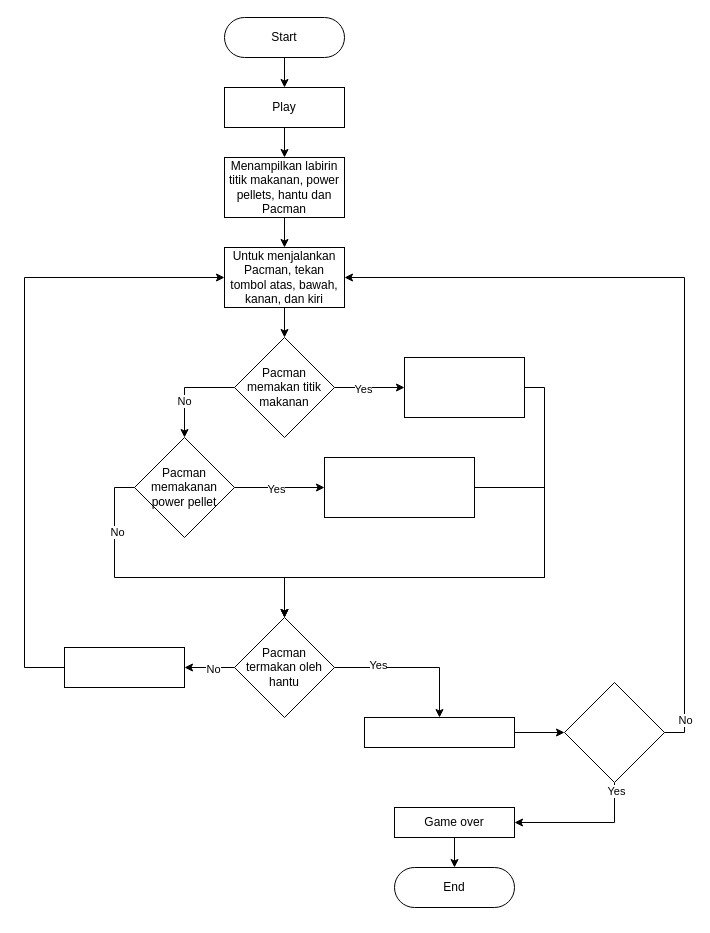
The diagram is 710 pixels wide and 933 high, and some of its shapes have lost their labels. The shapes that lost their labels are listed below. From the top down, each one's box as (x1, y1, x2, y2) in pixels, then its label:
(404, 356, 524, 418): Score bertambah 10 poin tiap titik makanan
(324, 456, 474, 518): Pacman bisa memakan hantu dan mendapat skor 200 poin tiap hantu yang di makan
(64, 646, 184, 688): Titik makanan habis +1 level
(364, 716, 514, 748): Nyawa berkurang
(564, 682, 664, 782): Nyawa < 1
